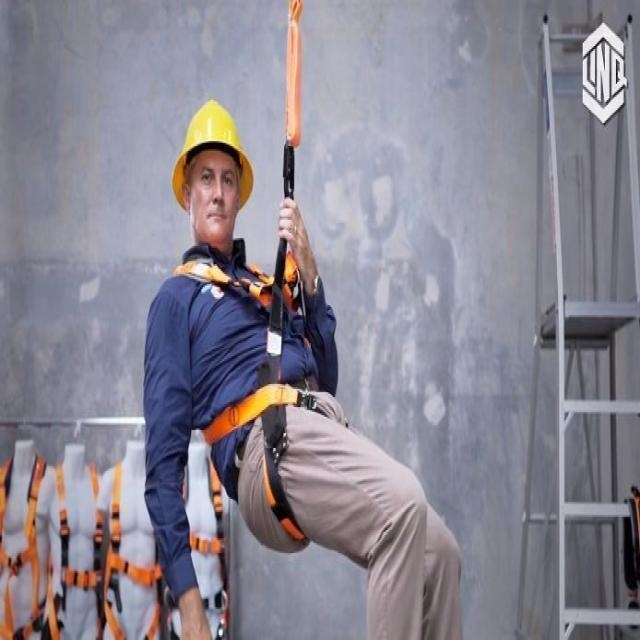Arnes_seguridad: (104, 458, 166, 640), (46, 460, 107, 640), (1, 447, 51, 640)
